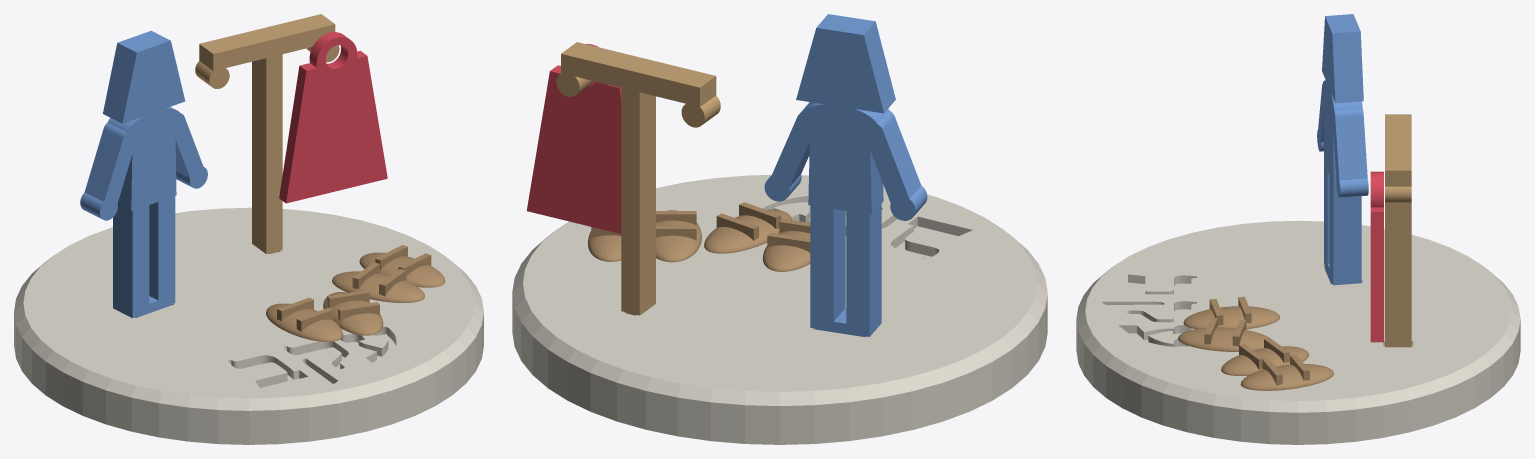
The model's file is ekev.glb.
3 views of the same model, side by side, from view 1: azimuth 30°, elevation 25°; view 2: azimuth 150°, elevation 25°; view 3: azimuth 270°, elevation 25° (orthographic). The views are drawn at different scales.
Parts seen in each view (by area): view 1: stage, walker, cloak, rack, sandal-1, sandal-3, sandal-2, sandal-4; view 2: stage, walker, rack, cloak, sandal-2, sandal-3, sandal-1, sandal-4; view 3: stage, walker, rack, cloak, sandal-4, sandal-2, sandal-1, sandal-3.
Boxes of the visible parts, x1,y1,x2,y2 form: stage: (14,207,483,444); walker: (80,30,207,318); cloak: (279,32,387,203); rack: (195,14,339,253); sandal-1: (266,297,343,341); sandal-3: (332,262,424,302); sandal-2: (323,290,383,335); sandal-4: (359,245,445,287); stage: (512,175,1047,444); walker: (764,14,927,337); rack: (556,42,720,315); cloak: (526,44,621,233); sandal-2: (704,202,791,253); sandal-3: (656,210,701,262); sandal-1: (762,218,810,271); sandal-4: (588,227,621,261); stage: (1076,220,1520,444); walker: (1317,14,1368,285); rack: (1385,114,1411,347); cloak: (1370,171,1383,342); sandal-4: (1240,354,1333,390); sandal-2: (1178,317,1268,351); sandal-1: (1183,296,1279,329); sandal-3: (1221,337,1308,375).
Bounding box in the file's own units: 40 × 28.8 × 40.
